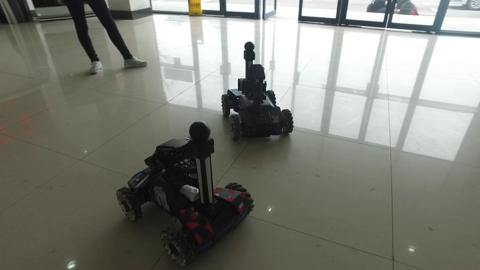chariot: (109, 116, 256, 267), (214, 39, 297, 141)
